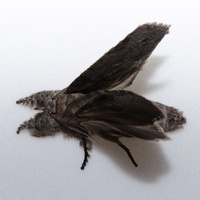insect: (16, 22, 185, 168)
